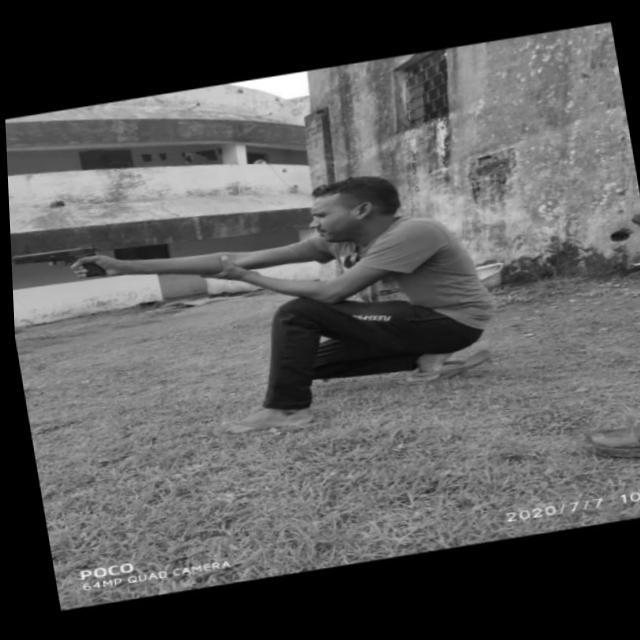weapon: (8, 236, 116, 293)
